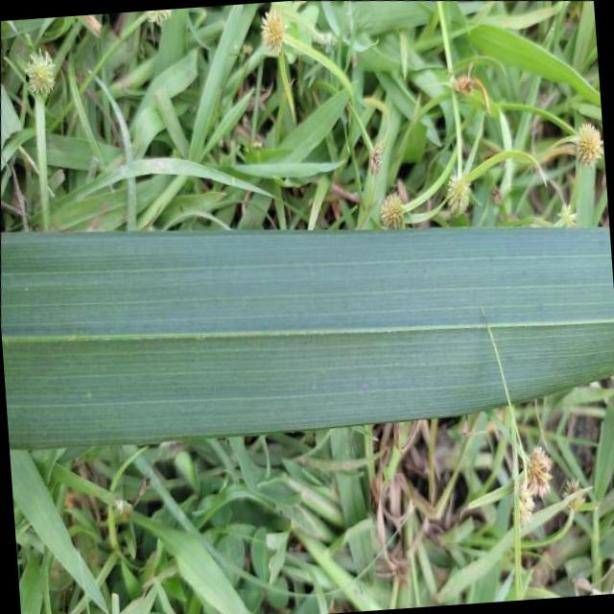Healthy: (5, 224, 614, 448)
